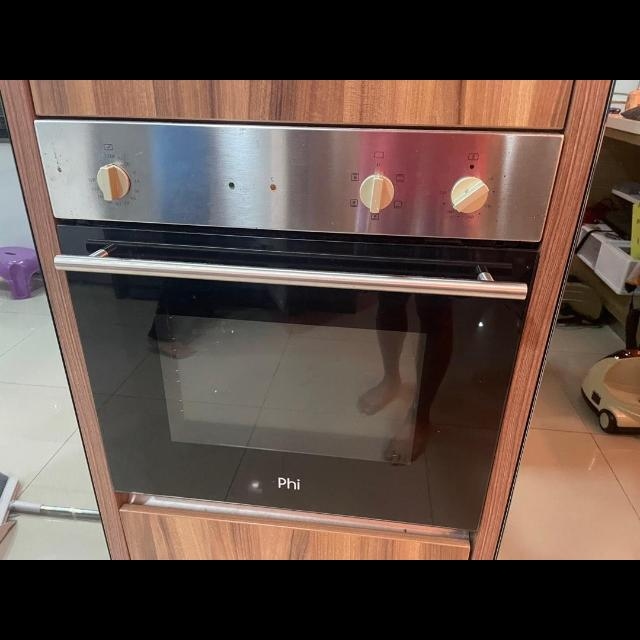Oven: (36, 117, 570, 528)
